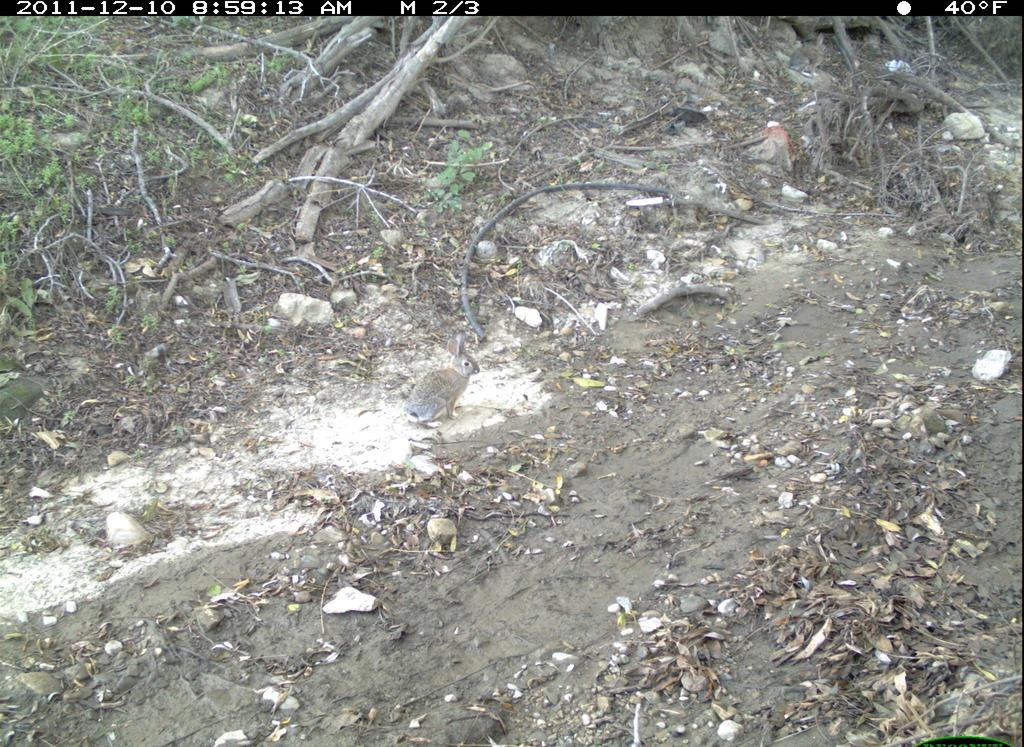rabbit: (404, 331, 488, 434)
